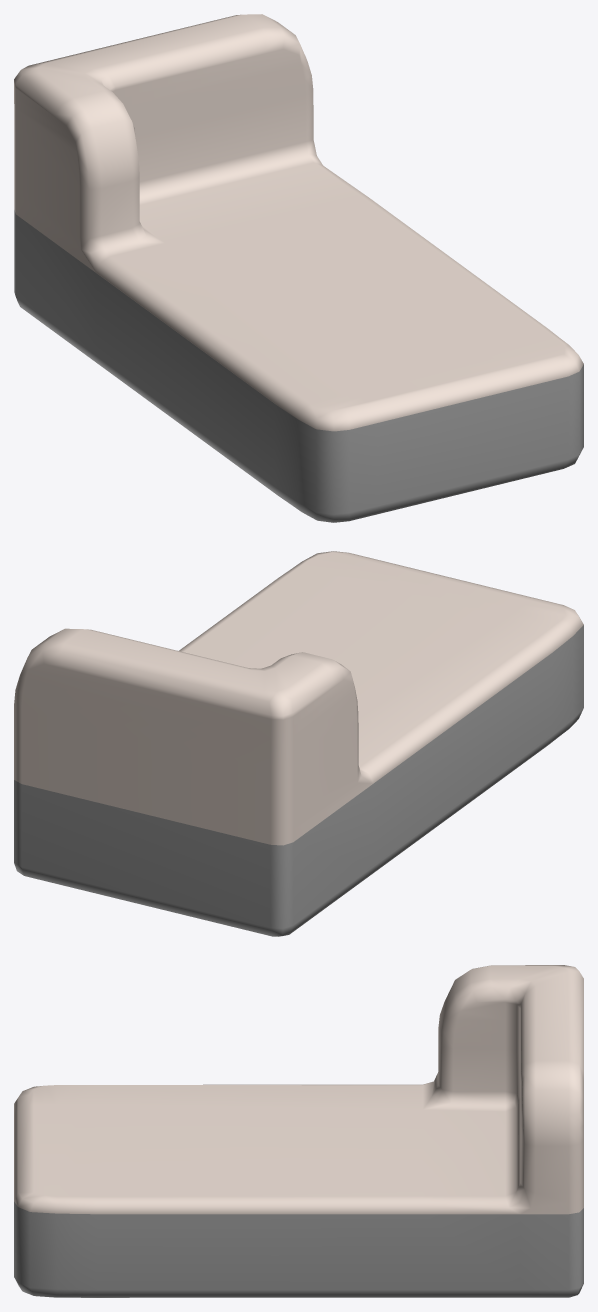
File: Chair_Couch_2.glb
3 views of the same model, one above another, from view 1: azimuth 30°, elevation 25°; view 2: azimuth 150°, elevation 25°; view 3: azimuth 270°, elevation 25° (orthographic). The views are drawn at different scales.
Parts seen in each view (by area): view 1: Couch_2; view 2: Couch_2; view 3: Couch_2.
Part boxes in pixels (x1=…): Couch_2: x1=14, y1=14, x2=583, y2=522; Couch_2: x1=14, y1=551, x2=583, y2=936; Couch_2: x1=14, y1=965, x2=583, y2=1297.
Size of the model in its own units: 1.31 by 1.09 by 2.55.
1 material, 1 textured.
